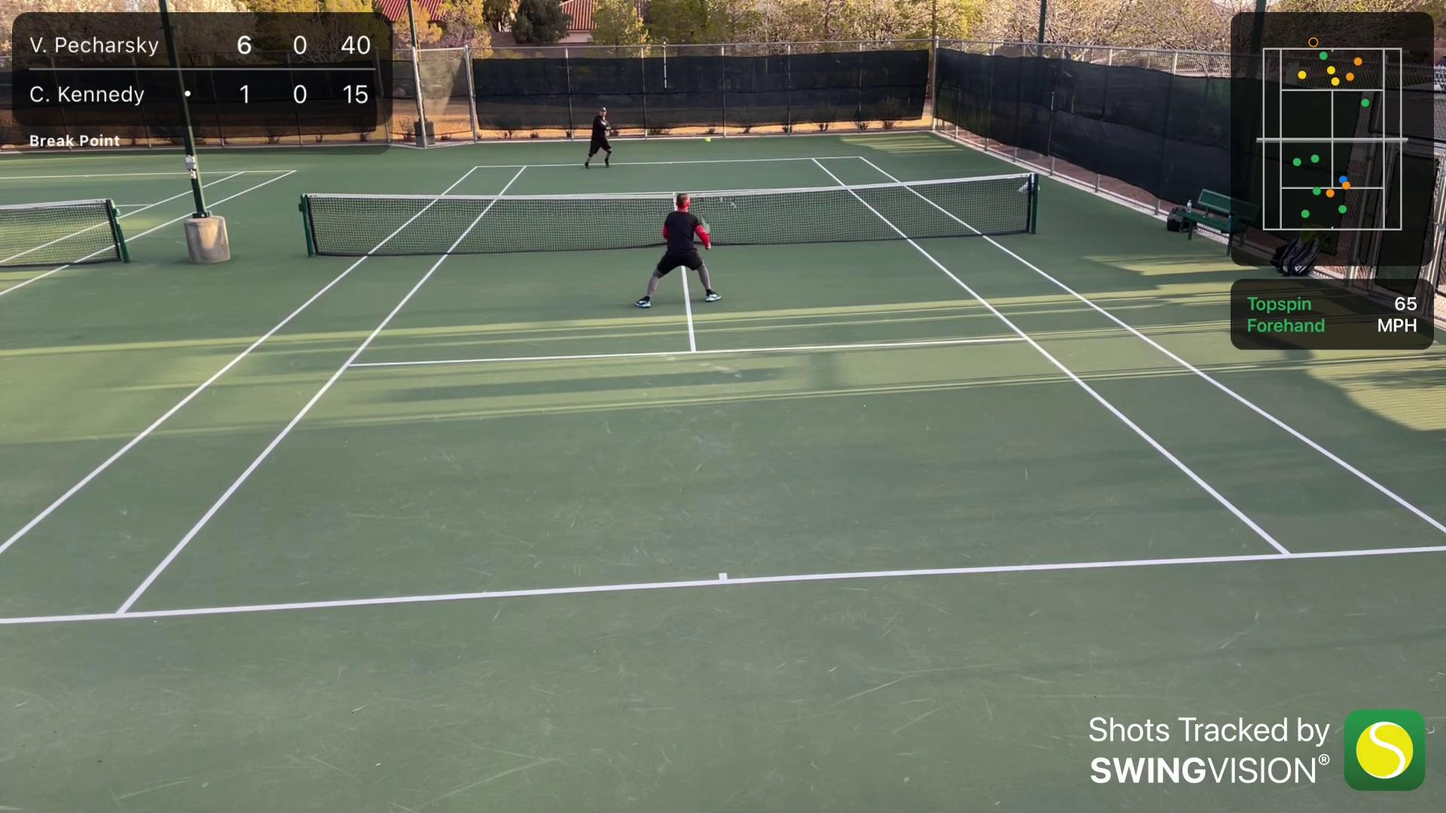ball: (703, 136, 714, 143)
